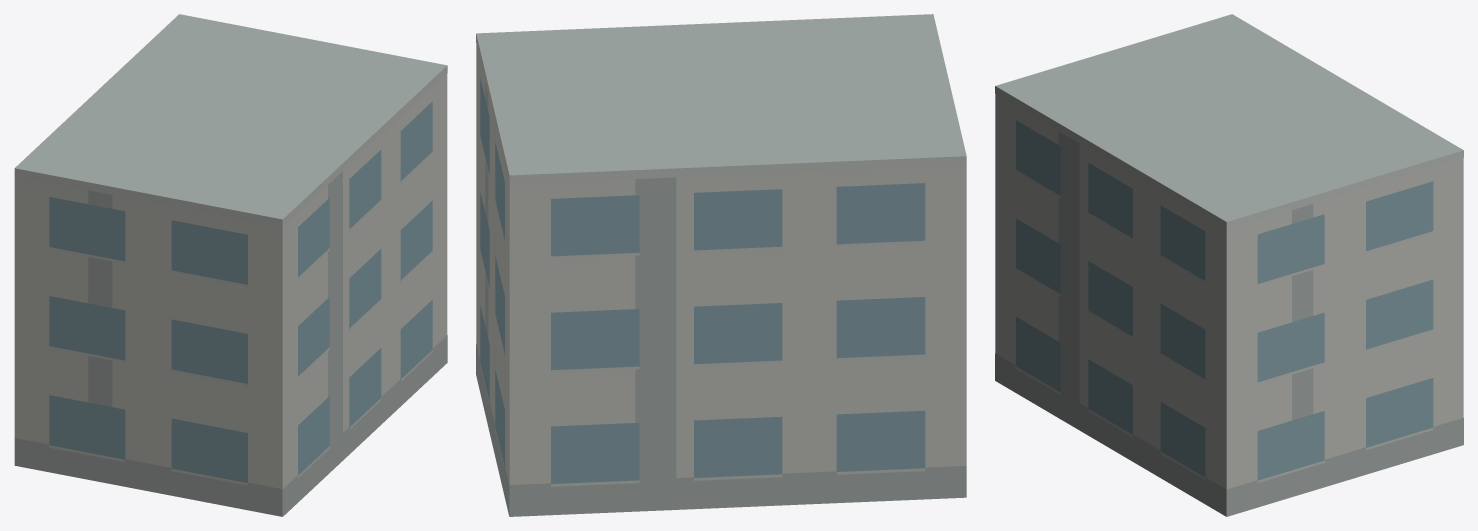
The model's file is residential-6a232658-2d97-44c1-b3a0-6b15e5c9e0fe.glb.
3 renders of one model, left to right at view 1: azimuth 30°, elevation 25°; view 2: azimuth 150°, elevation 25°; view 3: azimuth 270°, elevation 25°, orthographic. The views are drawn at different scales.
Visible parts, largest first — view 1: residential-6a232658-2d97-44c1-b3a0-6b15e5c9e0fe.tmp; view 2: residential-6a232658-2d97-44c1-b3a0-6b15e5c9e0fe.tmp; view 3: residential-6a232658-2d97-44c1-b3a0-6b15e5c9e0fe.tmp.
Boxes of the visible parts, x1=… form: residential-6a232658-2d97-44c1-b3a0-6b15e5c9e0fe.tmp: x1=14, y1=14, x2=447, y2=516; residential-6a232658-2d97-44c1-b3a0-6b15e5c9e0fe.tmp: x1=476, y1=14, x2=966, y2=516; residential-6a232658-2d97-44c1-b3a0-6b15e5c9e0fe.tmp: x1=995, y1=14, x2=1463, y2=516.
Bounding box in the file's own units: 13.86 × 9.15 × 13.19.
